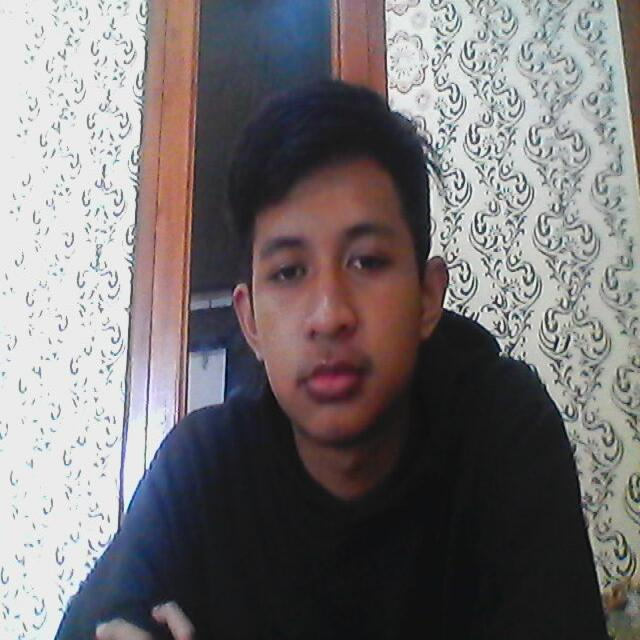eye: (264, 258, 310, 288), (346, 250, 393, 278)
gaze: (359, 253, 374, 271), (282, 265, 298, 281)
